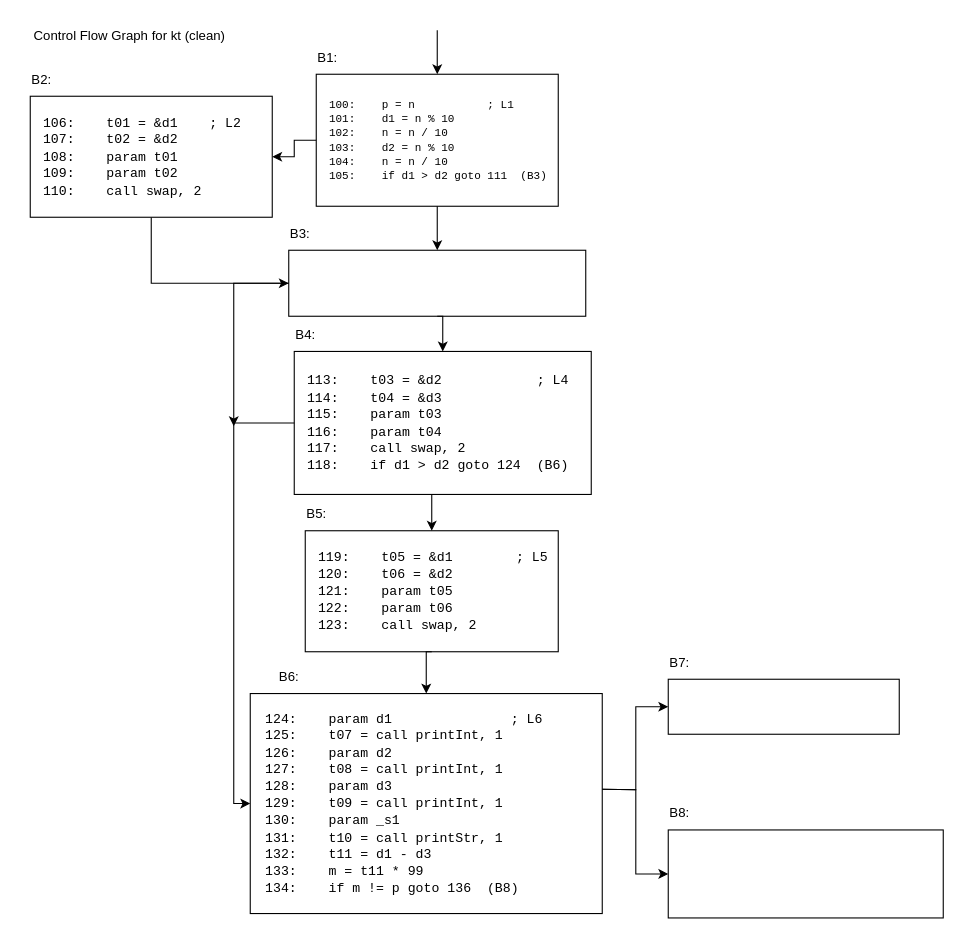
The diagram is 963 pixels wide and 937 high, and some of its shapes have lost their labels. The shapes that lost their labels are listed below. From the top down, each one's centre as x and y in pixels, then its label:
pixel 437 282: 111: d3 = n % 10 ; L3 112: if d2 > d3 goto 124 (B6)
pixel 783 706: 135: return m ;L7
pixel 805 873: 136: param m ;L8 137: t12 = call kt, 1 138: return t12
